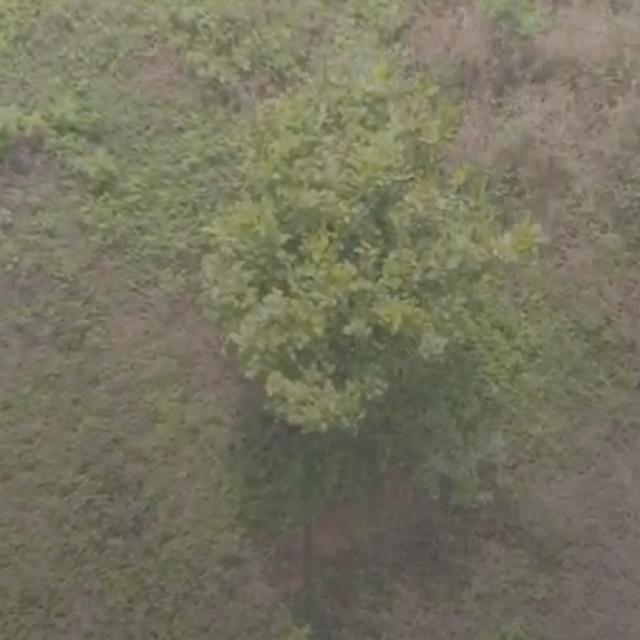notMangoTree: (194, 141, 503, 446)
